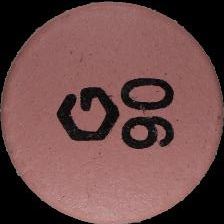50090-0699: (0, 0, 224, 224)
